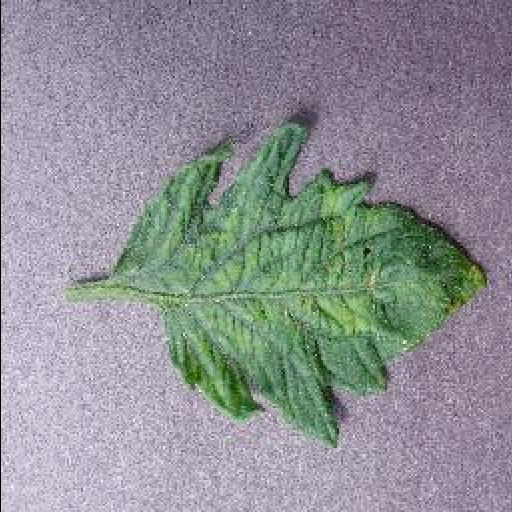Mosaic Virus: (114, 121, 488, 450)
